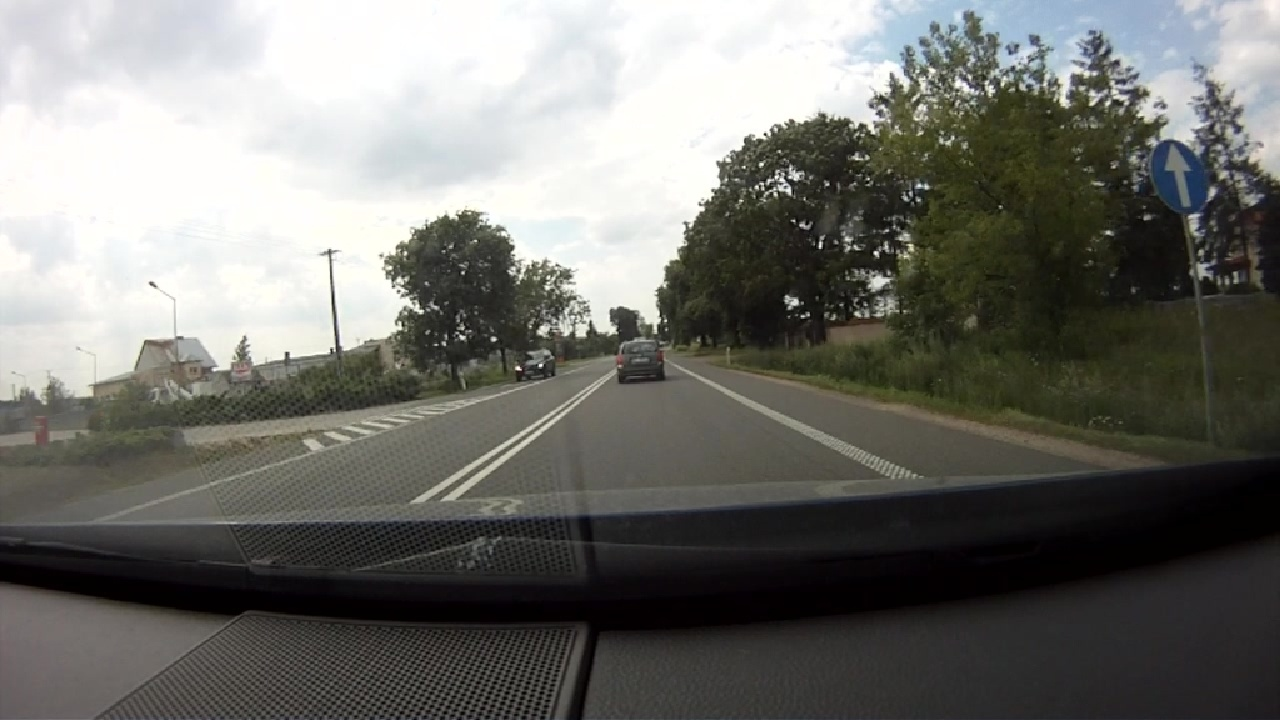C5: (1149, 140, 1208, 213)
